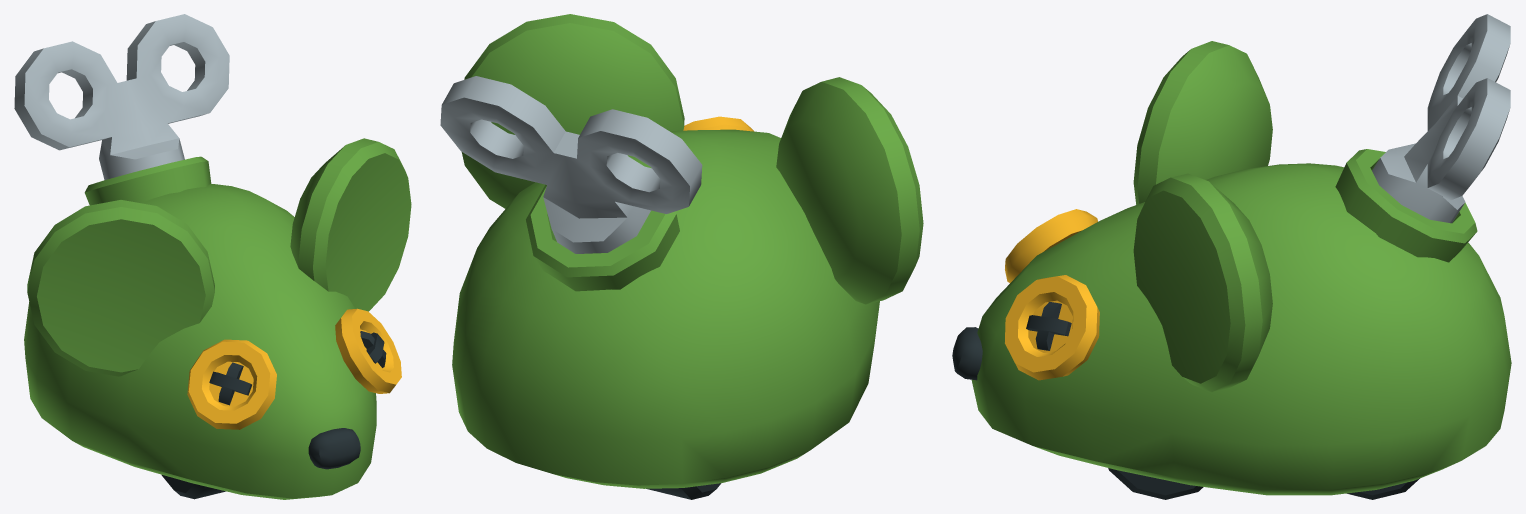
The model's file is toymouse_green.glb.
The picture shows the model from 3 angles, left to right: view 1: azimuth 30°, elevation 25°; view 2: azimuth 150°, elevation 25°; view 3: azimuth 270°, elevation 25°; orthographic projection. The views are drawn at different scales.
Visible parts, largest first — view 1: toymouse_green_, toymouse_green_key; view 2: toymouse_green_, toymouse_green_key; view 3: toymouse_green_, toymouse_green_key.
Part boxes in pixels (x1,y1,x2,y2): toymouse_green_: (24, 138, 411, 499); toymouse_green_key: (14, 14, 229, 180); toymouse_green_: (452, 14, 923, 499); toymouse_green_key: (440, 76, 702, 253); toymouse_green_: (952, 41, 1511, 499); toymouse_green_key: (1372, 14, 1510, 223).
Size of the model in its own units: 0.6993 by 0.6073 by 0.76.
